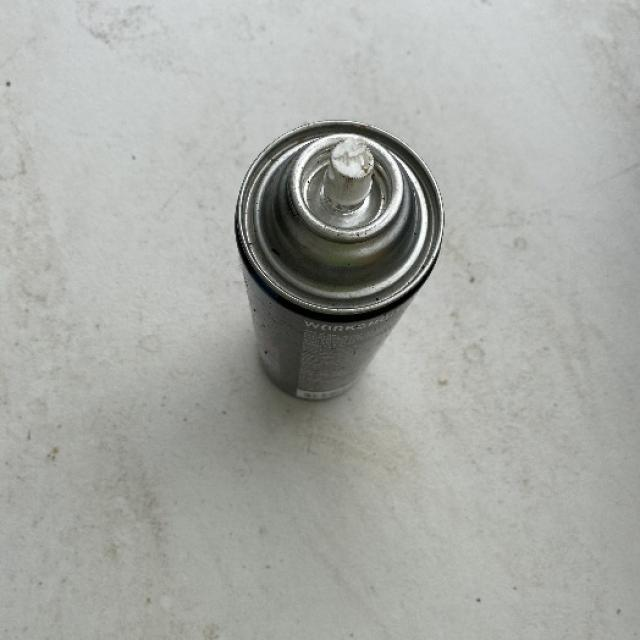metal: (233, 117, 445, 401)
